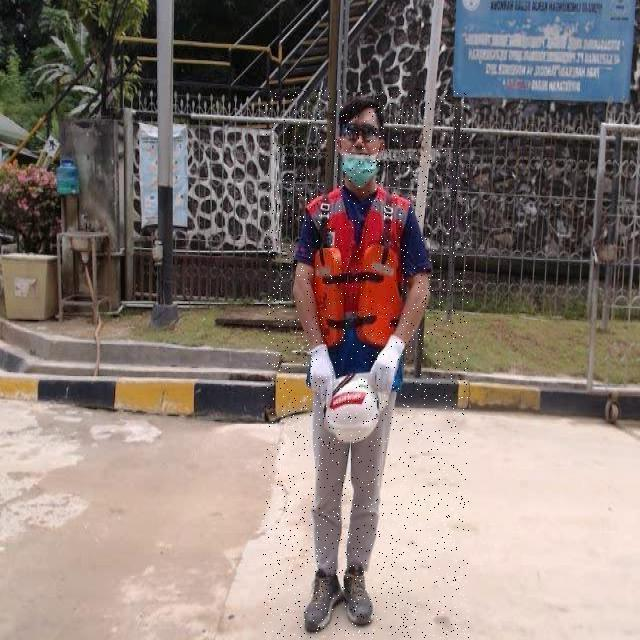gloves: (366, 333, 407, 391), (306, 344, 333, 402)
goggles: (341, 124, 381, 143)
helmet: (323, 371, 392, 441)
safety_vest: (306, 184, 411, 391)
